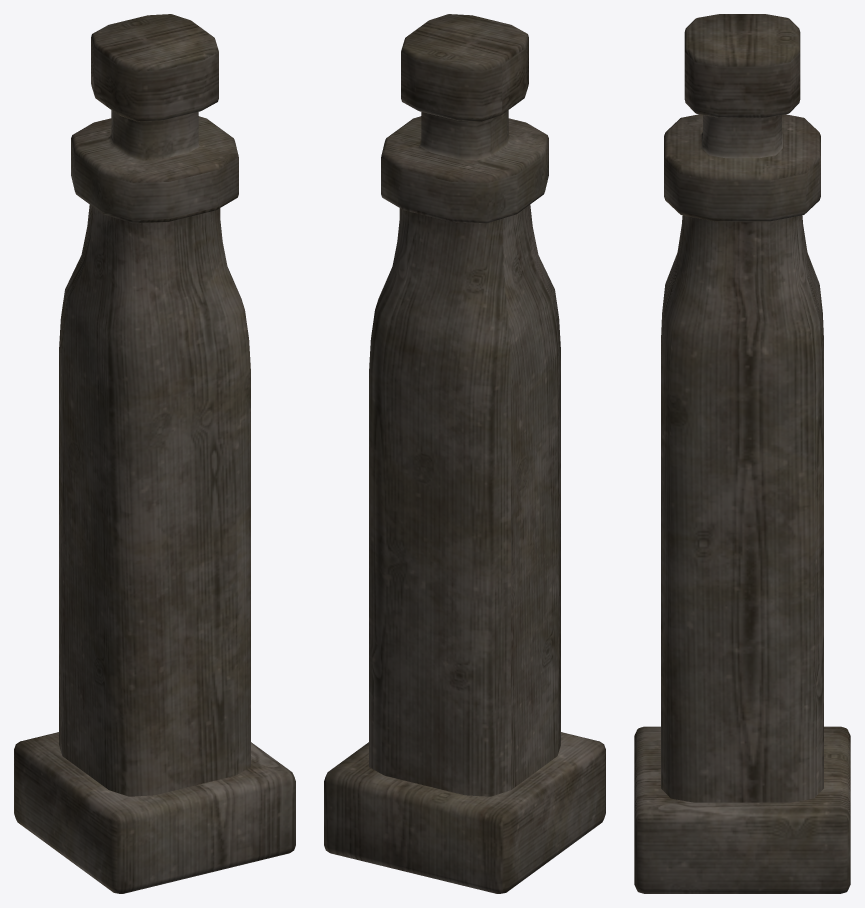
Rendered from ShrineModule_Handrail-01.fbx.
3 views of the same model, side by side, from view 1: azimuth 30°, elevation 25°; view 2: azimuth 150°, elevation 25°; view 3: azimuth 270°, elevation 25° (orthographic). The views are drawn at different scales.
Parts seen in each view (by area): view 1: ShrineModule_Handrail-01; view 2: ShrineModule_Handrail-01; view 3: ShrineModule_Handrail-01.
Boxes of the visible parts, left/top/right/bottom form: ShrineModule_Handrail-01: left=14, top=14, right=295, bottom=893; ShrineModule_Handrail-01: left=324, top=14, right=605, bottom=893; ShrineModule_Handrail-01: left=634, top=14, right=850, bottom=893.
Size of the model in its own units: 0.2835 by 1.18 by 0.2835.
